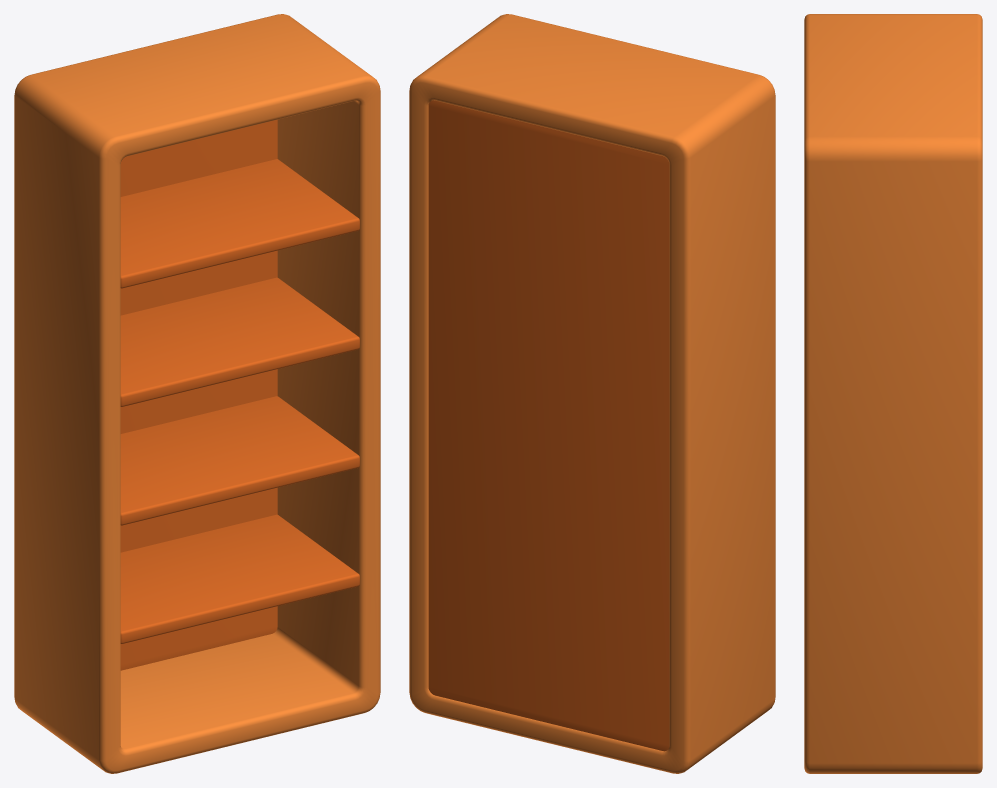
The model's file is estante_simples_laranja.glb.
3 renders of one model, left to right at view 1: azimuth 30°, elevation 25°; view 2: azimuth 150°, elevation 25°; view 3: azimuth 270°, elevation 25°, orthographic.
Parts seen in each view (by area): view 1: estante_simples_laranja; view 2: estante_simples_laranja; view 3: estante_simples_laranja.
Boxes of the visible parts, x1,y1,x2,y2 form: estante_simples_laranja: (14, 14, 380, 773); estante_simples_laranja: (409, 14, 775, 773); estante_simples_laranja: (804, 14, 982, 773).
Bounding box in the file's own units: 0.6 × 1.3 × 0.33.
Materials: 1 (1 with a texture image).
